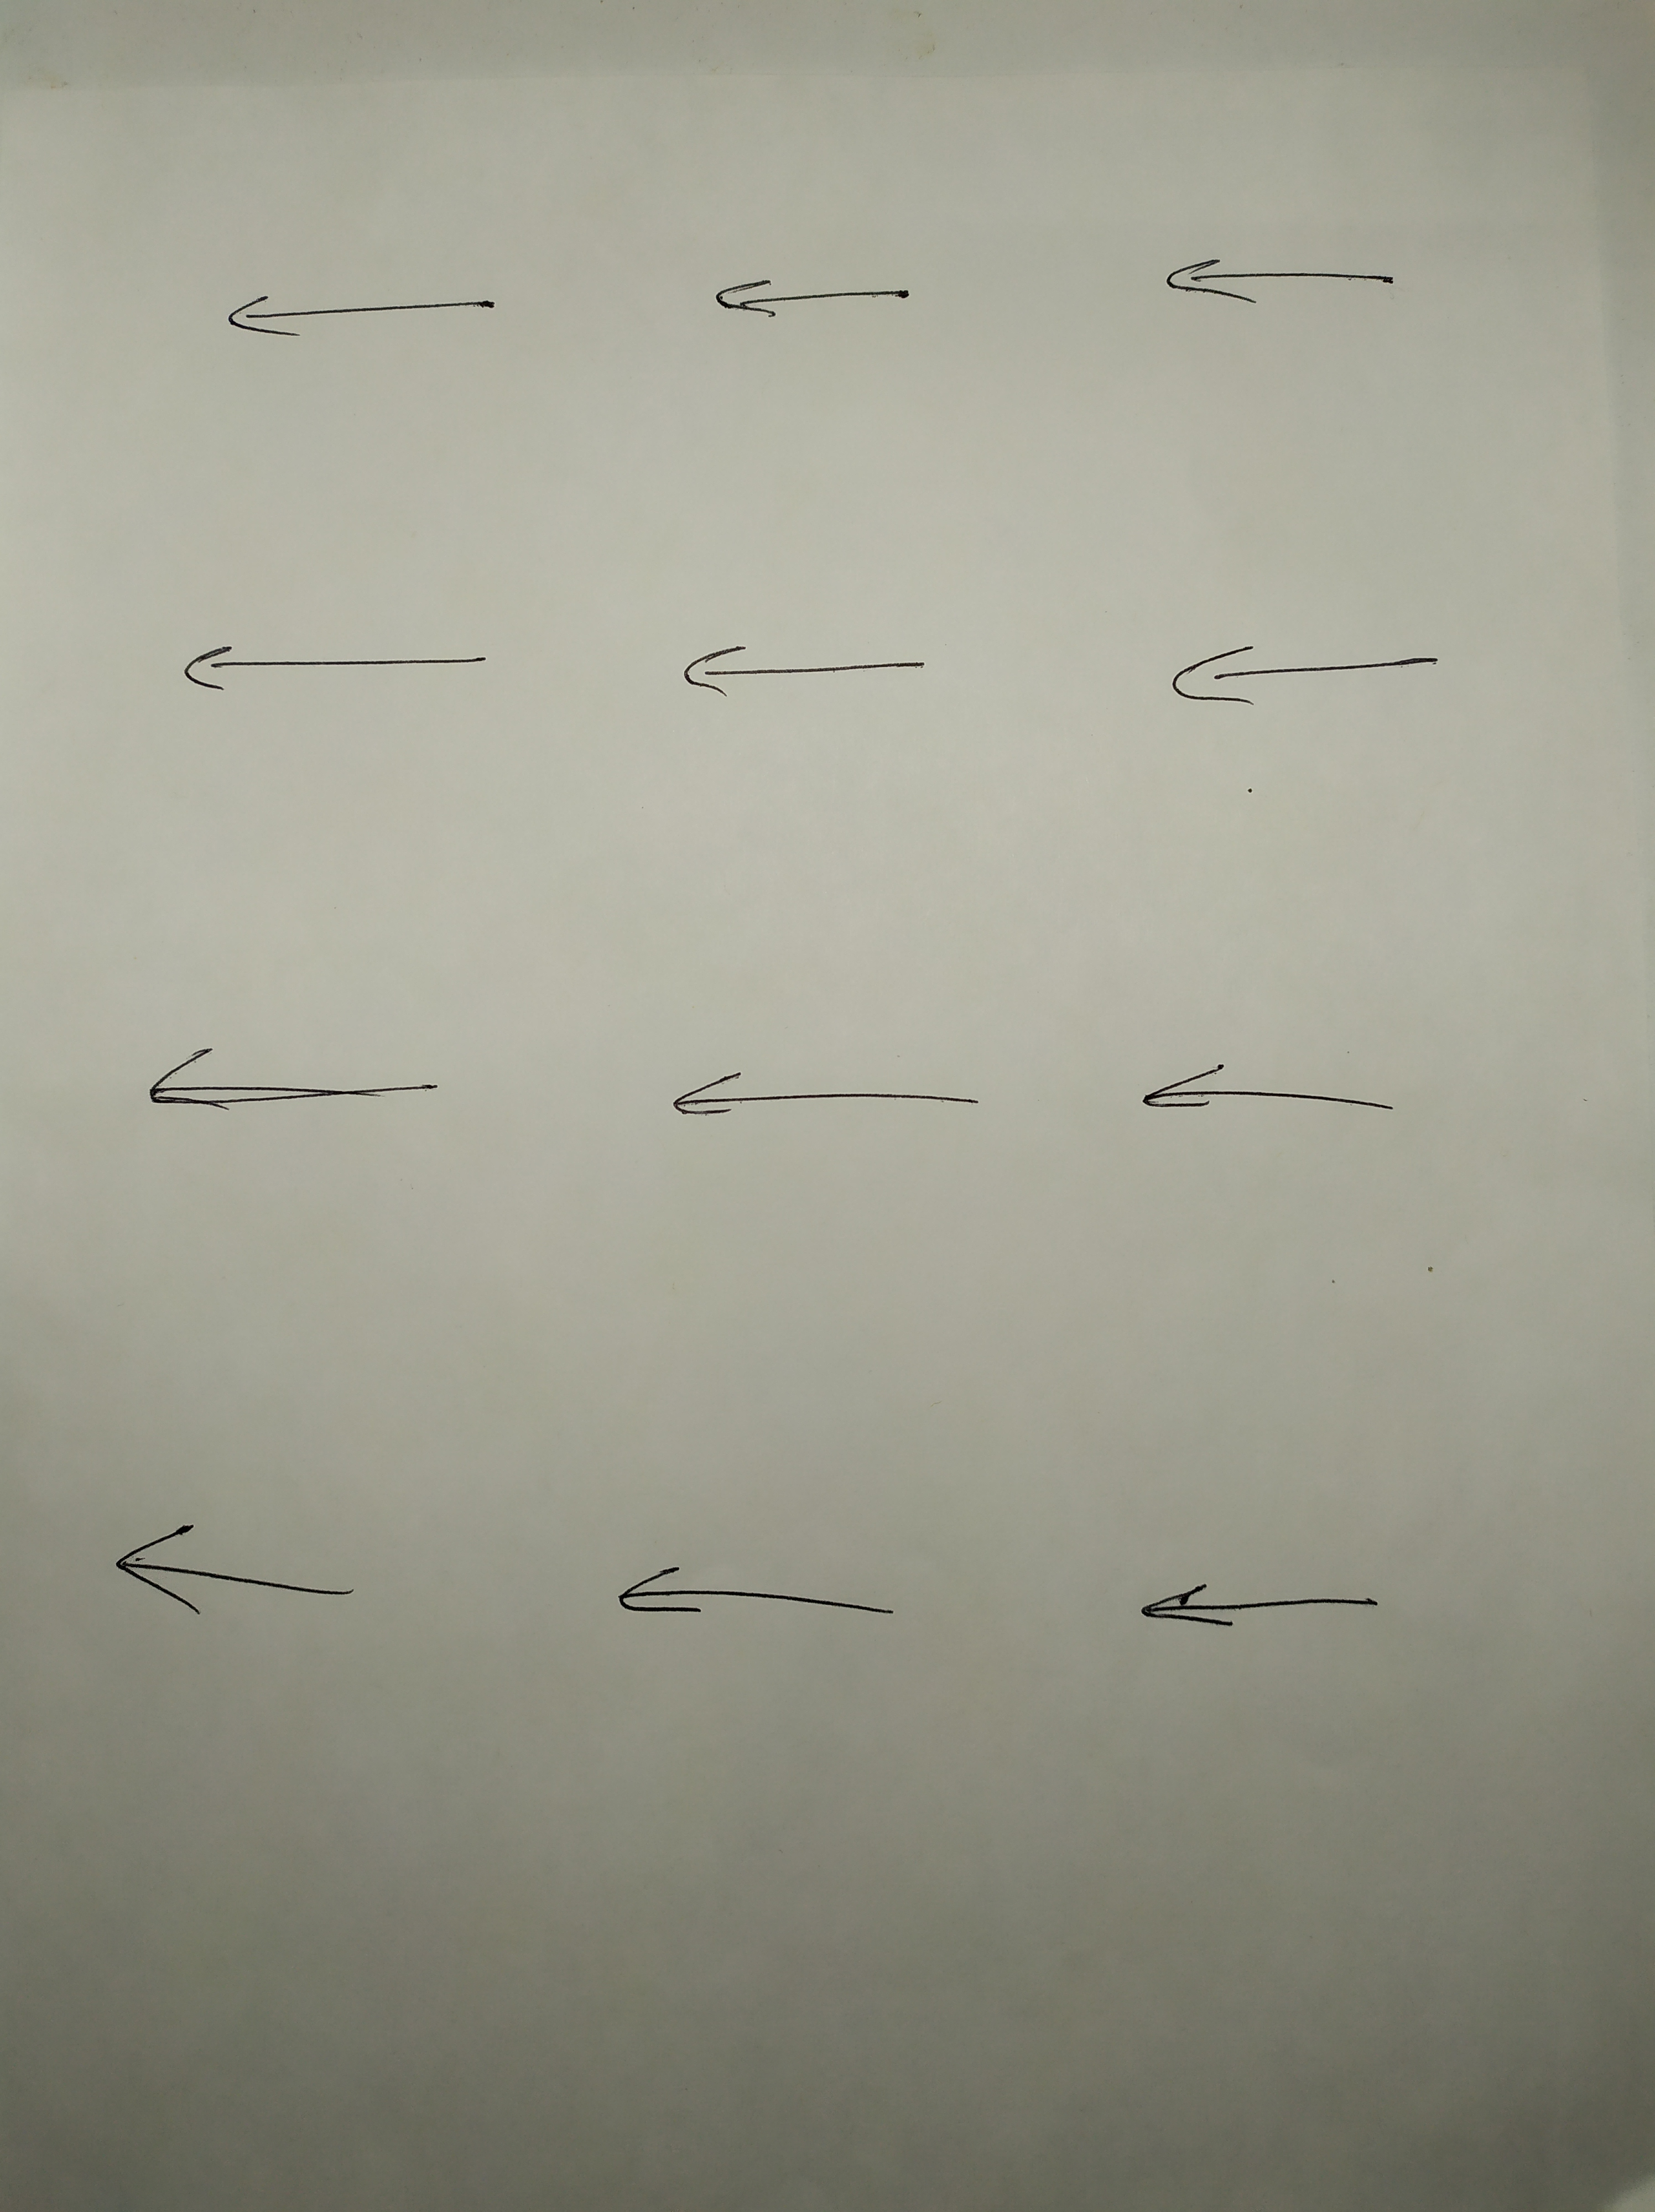arrow_line_left: (111, 1025, 489, 1154), (568, 1536, 939, 1649), (148, 605, 525, 709), (90, 1510, 402, 1633), (645, 1046, 1010, 1145), (1133, 617, 1466, 721), (652, 622, 949, 730), (1133, 238, 1460, 334), (1111, 1053, 1410, 1154), (666, 250, 977, 335), (1118, 1562, 1422, 1647), (177, 269, 516, 341)
